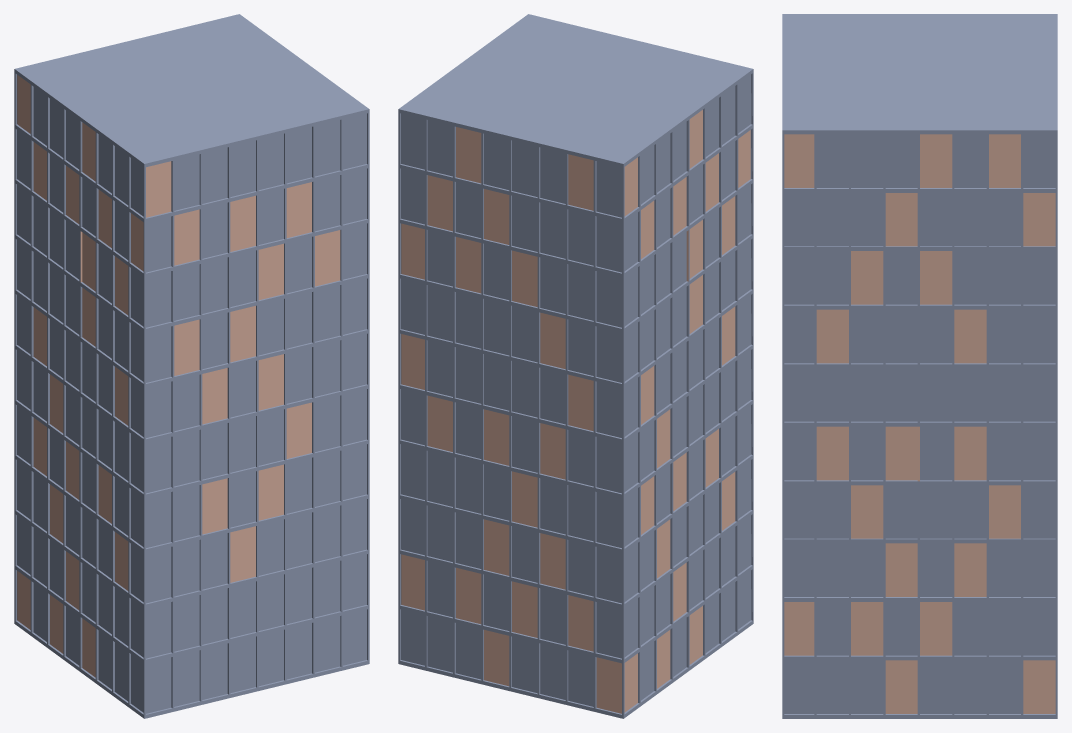
File: OhnoRIn1.fbx
3 renders of one model, left to right at view 1: azimuth 30°, elevation 25°; view 2: azimuth 150°, elevation 25°; view 3: azimuth 270°, elevation 25°, orthographic. The views are drawn at different scales.
Parts seen in each view (by area): view 1: pCube3; view 2: pCube3; view 3: pCube3.
Boxes of the visible parts, x1,y1,x2,y2 form: pCube3: (14, 14, 369, 718); pCube3: (398, 14, 753, 718); pCube3: (782, 14, 1057, 718).
Bounding box in the file's own units: 60 × 141 × 60.
